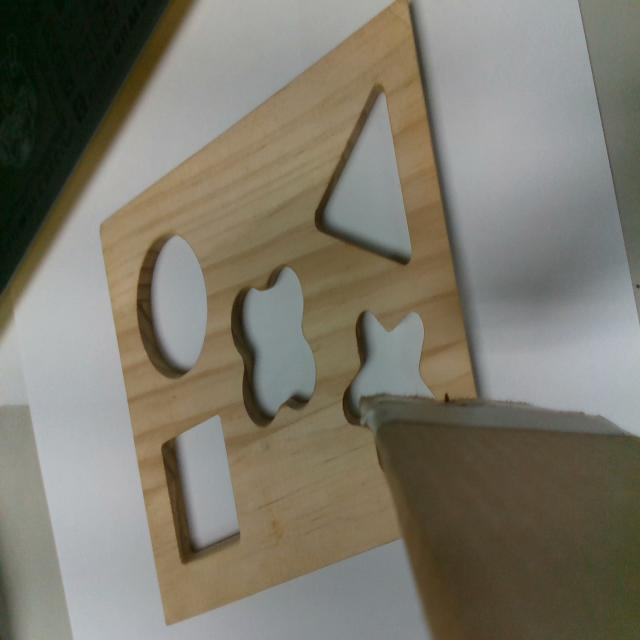circle: (137, 231, 208, 380)
flower: (230, 264, 316, 427)
square: (160, 412, 243, 568)
star: (343, 309, 436, 426)
triangle: (313, 79, 417, 267)
